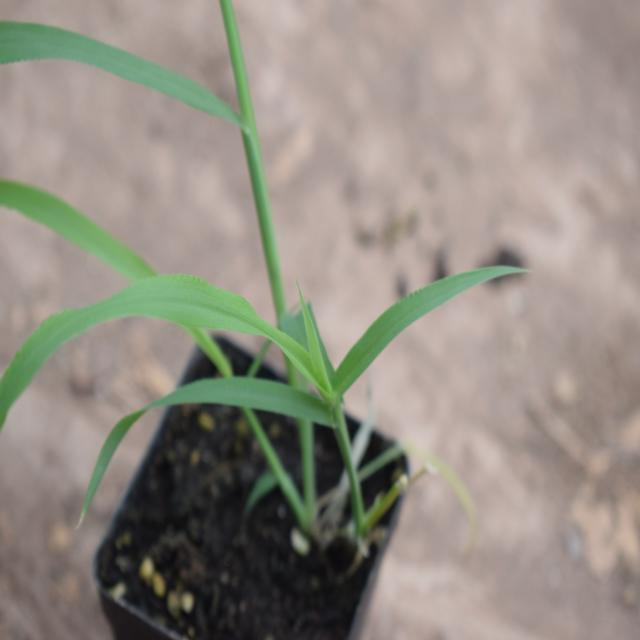crabgrass: (3, 195, 467, 512)
